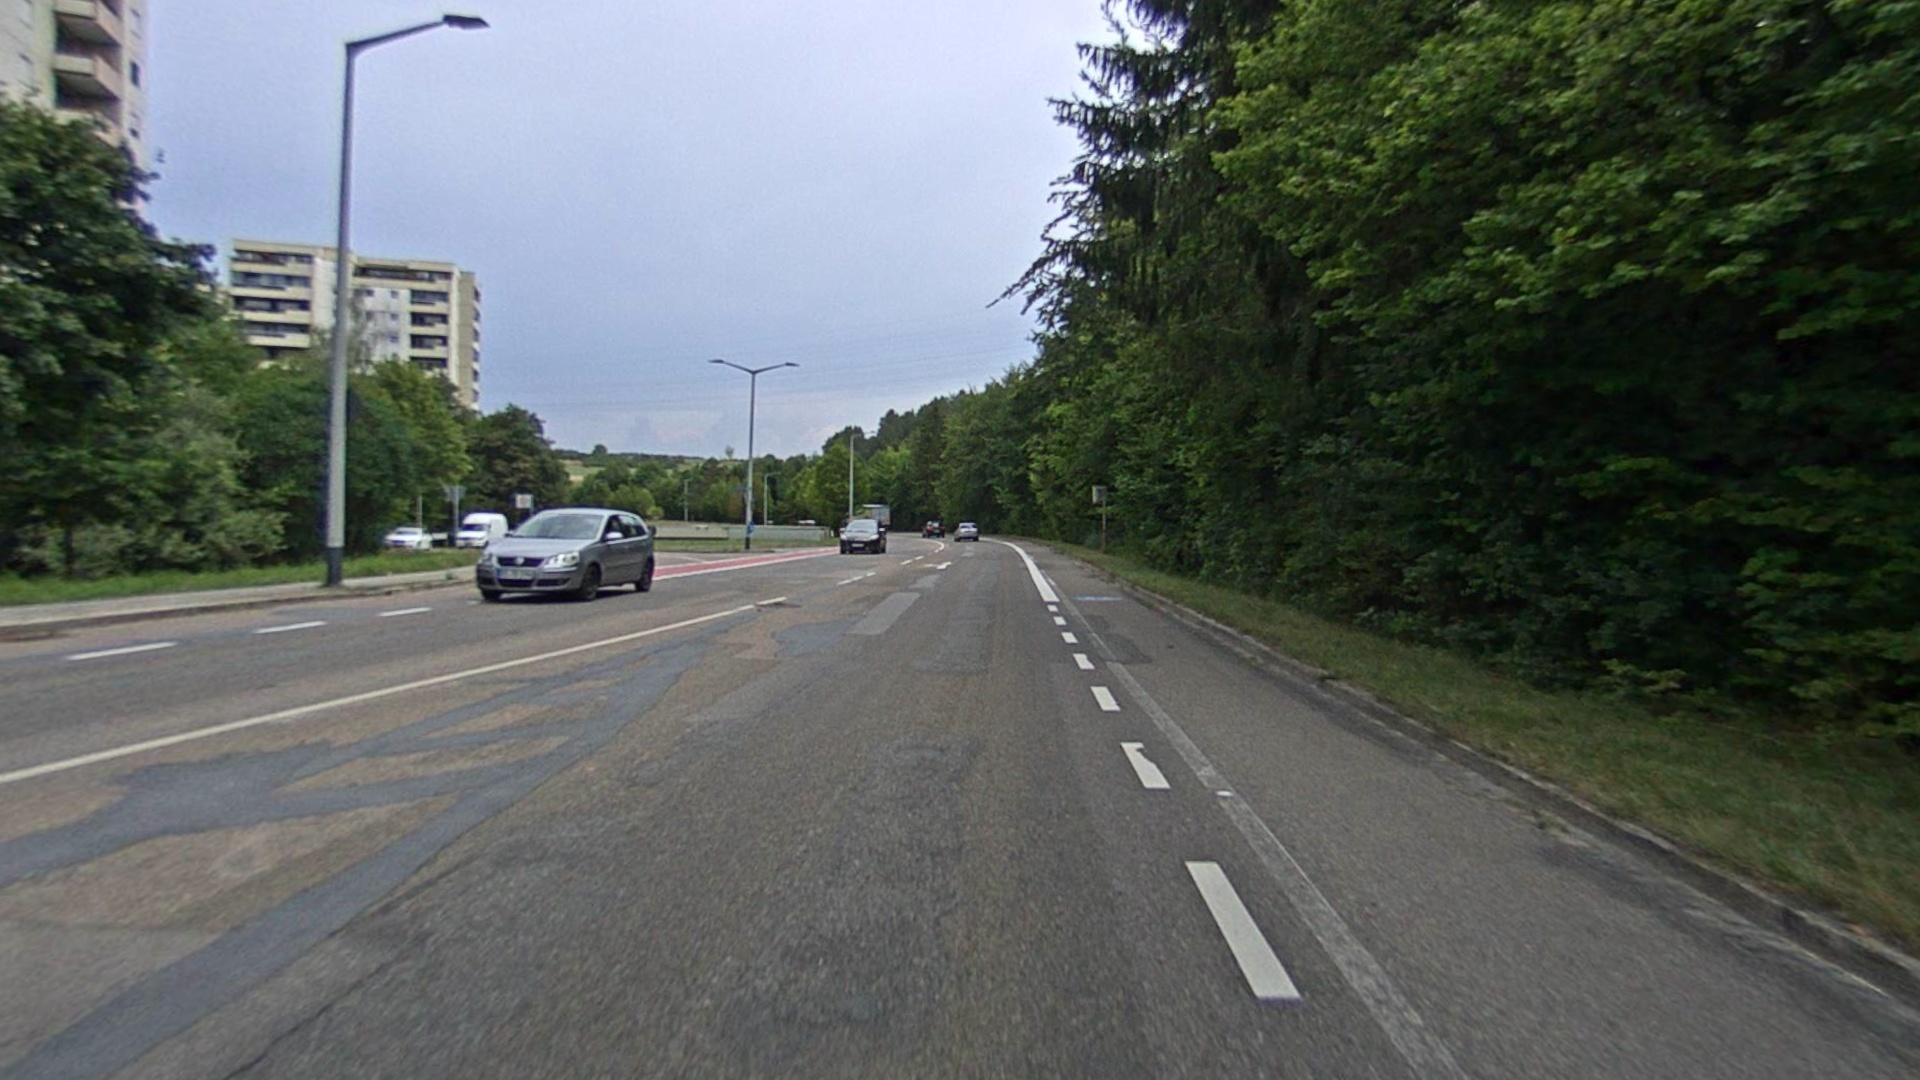car: (471, 504, 659, 607), (836, 520, 885, 553)
